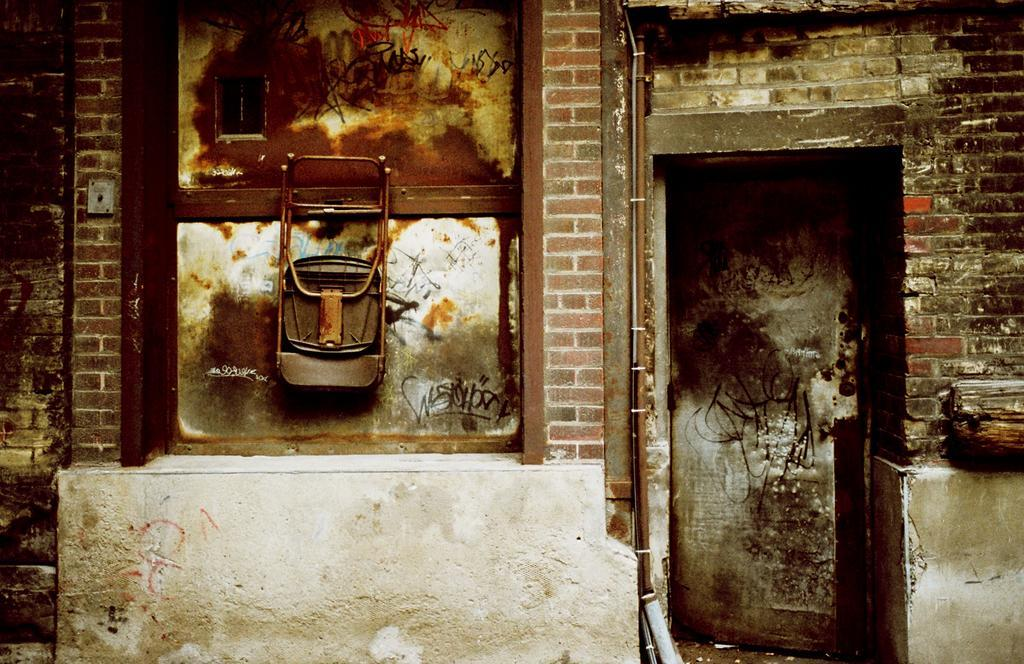door: (665, 180, 860, 644)
